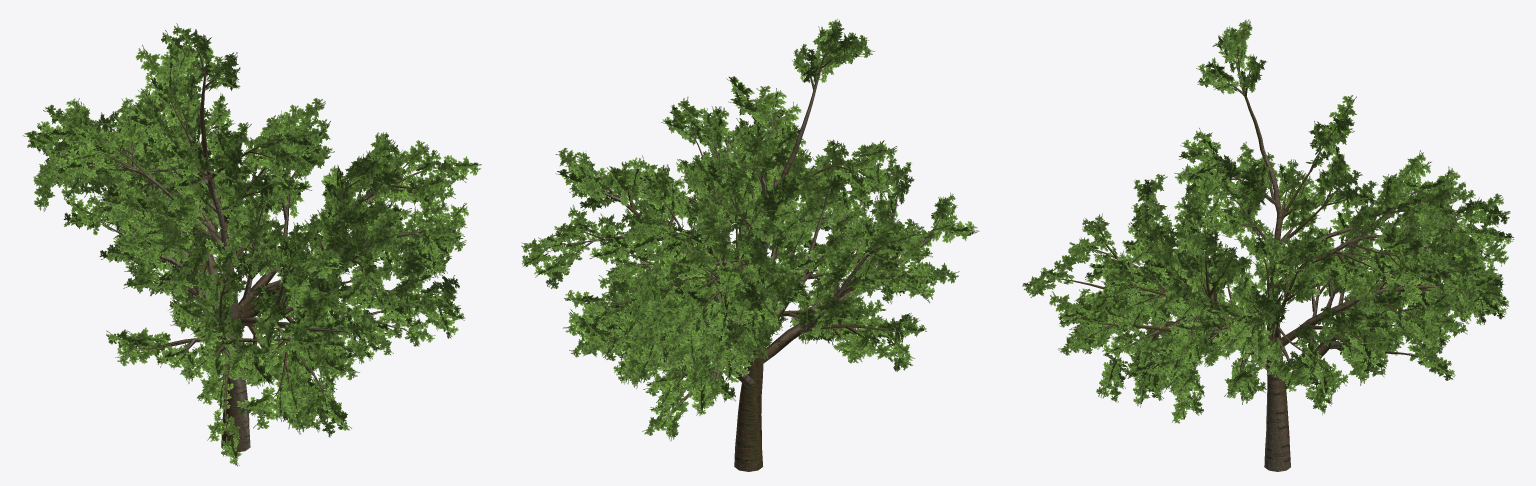
Rendered from tree_oak_large.glb.
3 renders of one model, left to right at view 1: azimuth 30°, elevation 25°; view 2: azimuth 150°, elevation 25°; view 3: azimuth 270°, elevation 25°, orthographic. The views are drawn at different scales.
Parts seen in each view (by area): view 1: Leaves, Branches; view 2: Leaves, Branches; view 3: Leaves, Branches.
Boxes of the visible parts, left/top/right/bottom form: Leaves: left=23, top=23, right=481, bottom=466; Branches: left=44, top=46, right=439, bottom=452; Leaves: left=521, top=19, right=979, bottom=440; Branches: left=545, top=39, right=941, bottom=471; Leaves: left=1022, top=19, right=1514, bottom=423; Branches: left=1054, top=41, right=1492, bottom=471.
Bounding box in the file's own units: 12.56 × 14.5 × 15.87.
2 materials, 2 textured.
